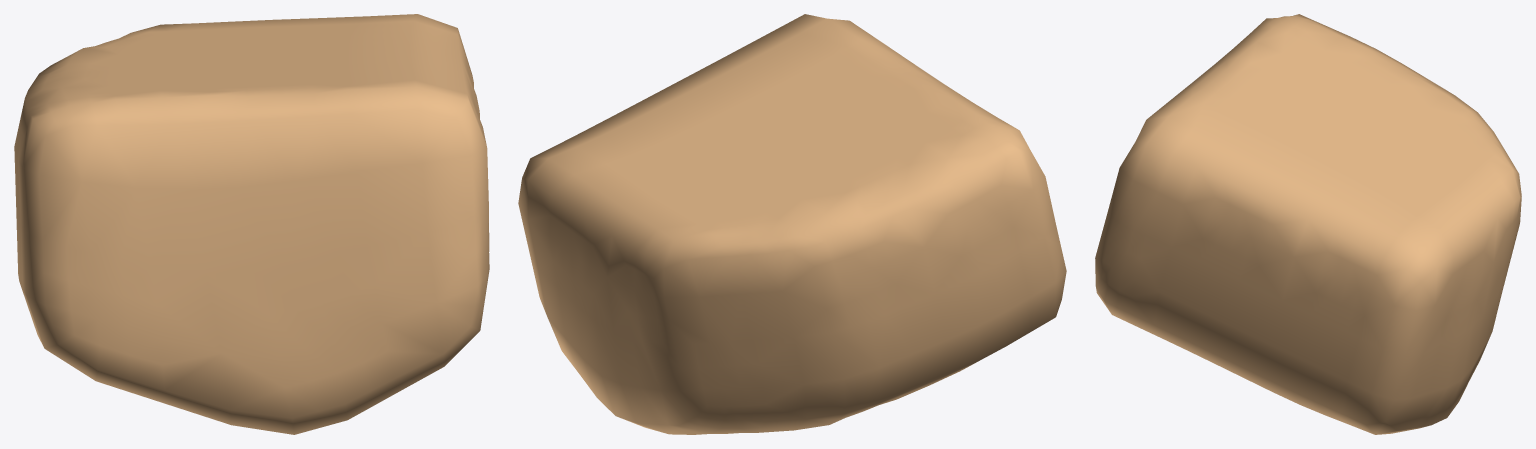
File: thumb_01_r.dae
The picture shows the model from 3 angles, left to right: view 1: azimuth 30°, elevation 25°; view 2: azimuth 150°, elevation 25°; view 3: azimuth 270°, elevation 25°; orthographic projection. The views are drawn at different scales.
Parts seen in each view (by area): view 1: skin_geo_thumb_01_r; view 2: skin_geo_thumb_01_r; view 3: skin_geo_thumb_01_r.
Part boxes in pixels (box(x1,y1,x2,y2)): skin_geo_thumb_01_r: box(14, 14, 489, 434); skin_geo_thumb_01_r: box(518, 14, 1066, 434); skin_geo_thumb_01_r: box(1095, 14, 1521, 434).
Size of the model in its own units: 0.0516 by 0.0456 by 0.0349.
